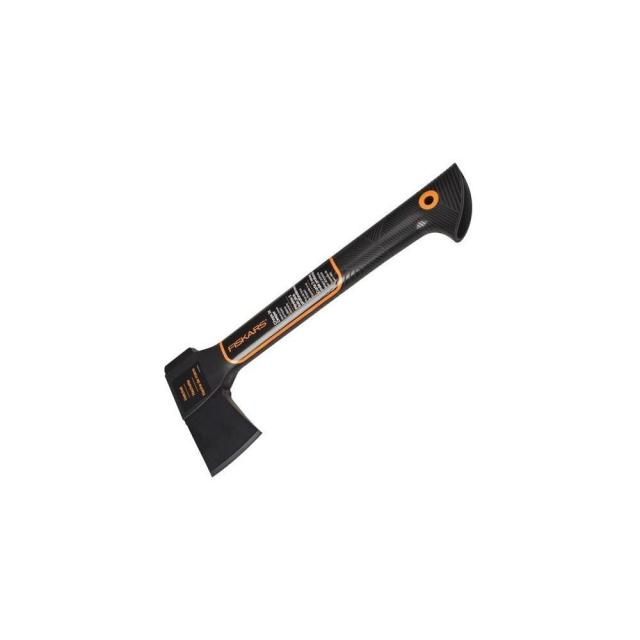Kapak: (115, 128, 531, 470)
